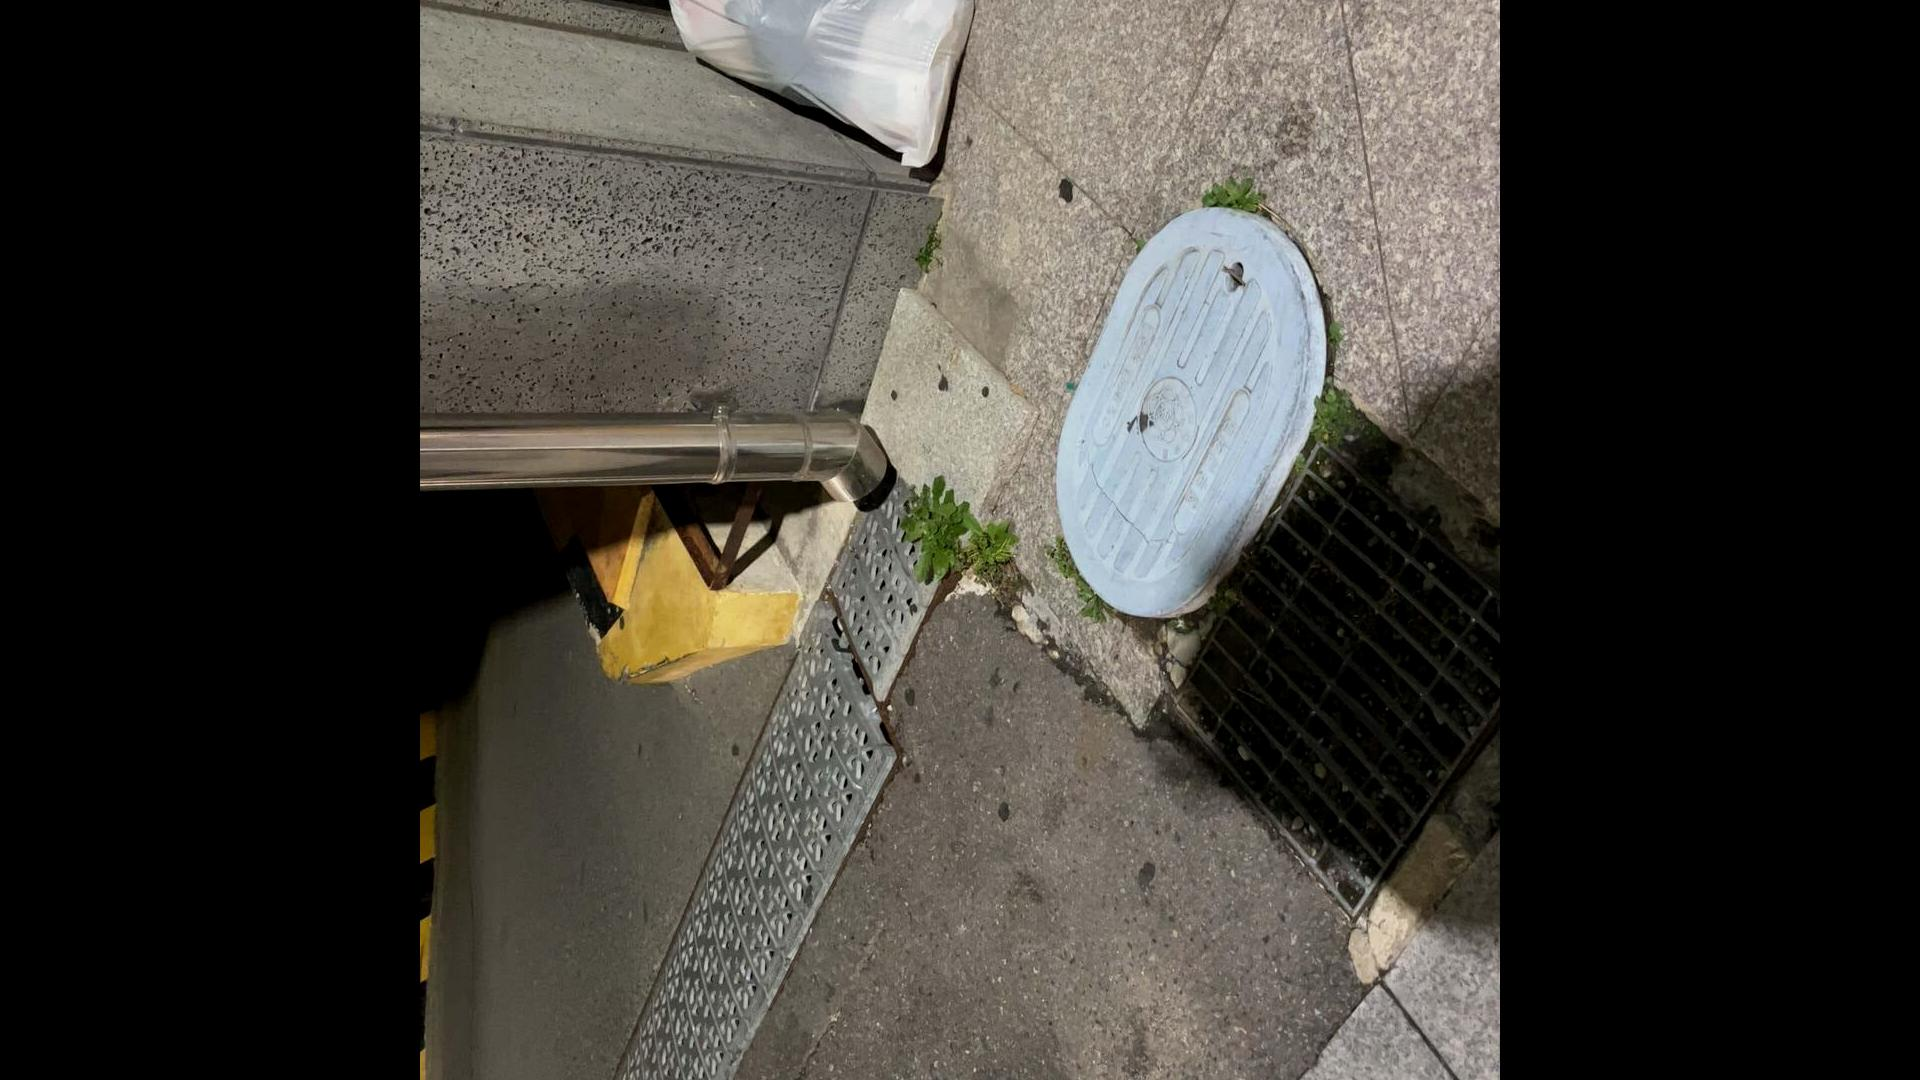white_bag: (632, 0, 992, 182)
